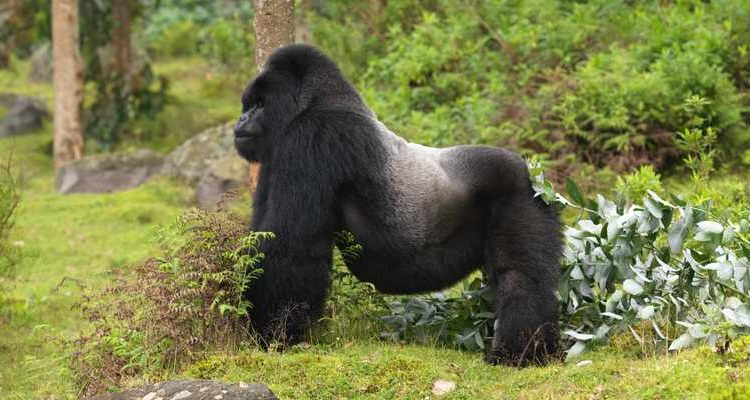Gorilla: (225, 42, 565, 365)
